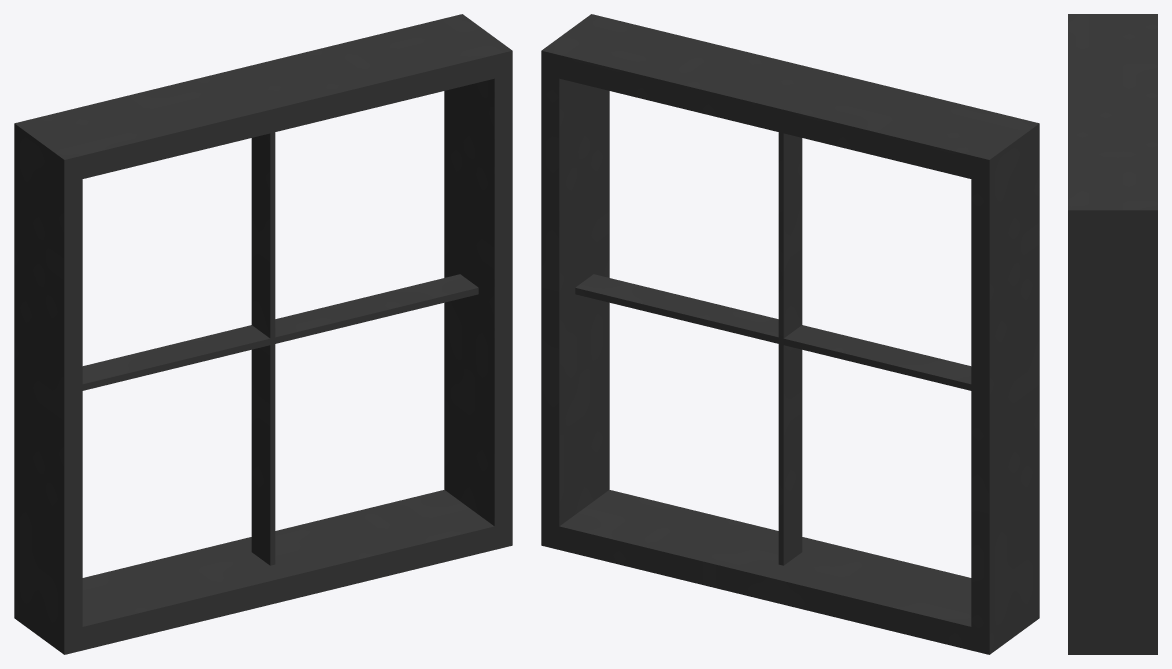
The model's file is Window_03.fbx.
3 renders of one model, left to right at view 1: azimuth 30°, elevation 25°; view 2: azimuth 150°, elevation 25°; view 3: azimuth 270°, elevation 25°, orthographic. The views are drawn at different scales.
Parts seen in each view (by area): view 1: Window_03; view 2: Window_03; view 3: Window_03.
Part boxes in pixels (x1,y1,x2,y2): Window_03: (14,14,512,654); Window_03: (541,14,1039,654); Window_03: (1068,14,1157,654).
Size of the model in its own units: 1 by 1.06 by 0.1938.
